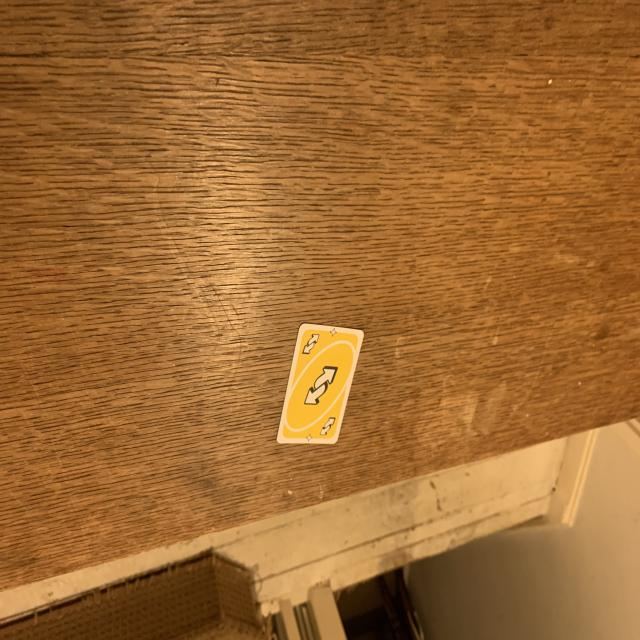lyellowrevers-20: (297, 329, 325, 365)
